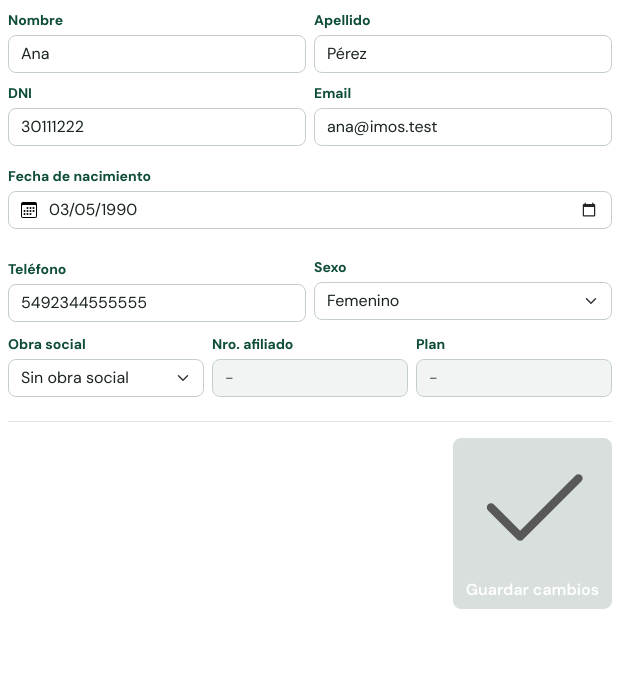
Test: PacienteFormFields (editar paciente) › un error del back por campo se marca en ese campo y arriba figura el mensaje
Replace the text in the field labelled "Nombre" with "Anita" at (157,54), box x1=8 y1=35 x2=306 y2=73
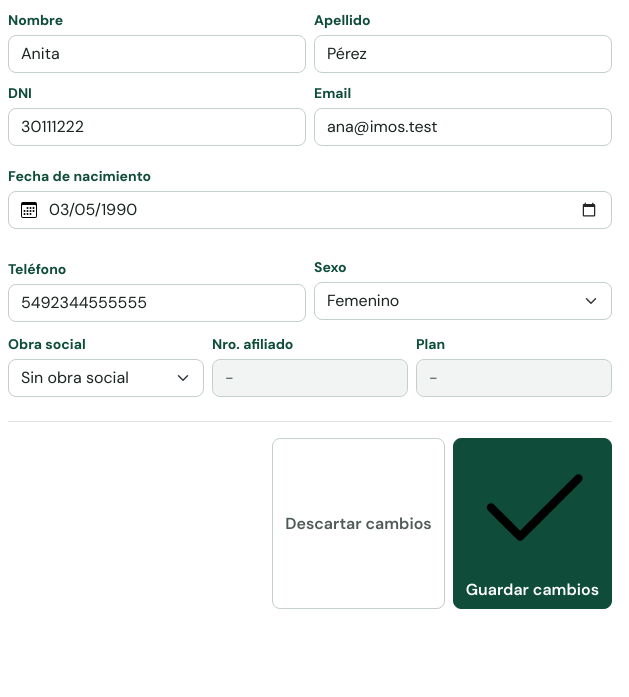
Expected: the button "Guardar cambios" is enabled
Click the button "Guardar cambios" at (532,524), box x1=453 y1=438 x2=612 y2=609
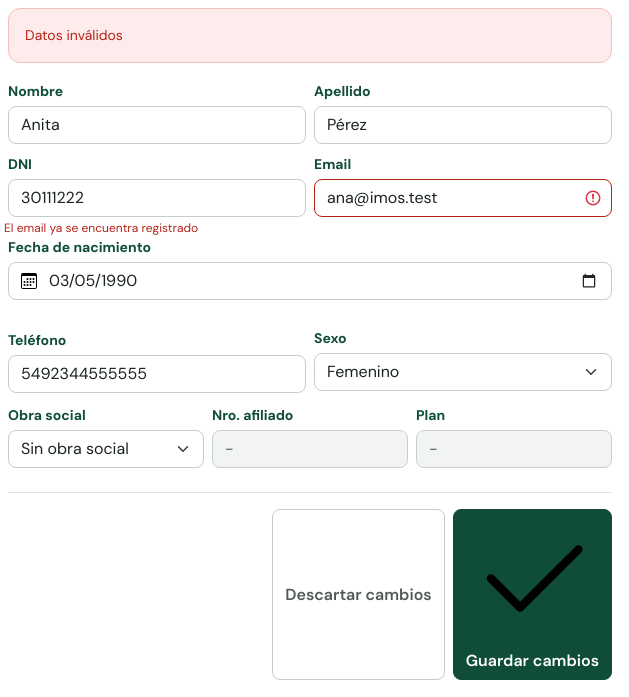
Expected: the message reads "Datos inválidos", x1=25 y1=26 x2=123 y2=44
Expected: the text "El email ya se encuentra registrado" is shown, x1=4 y1=220 x2=198 y2=236
